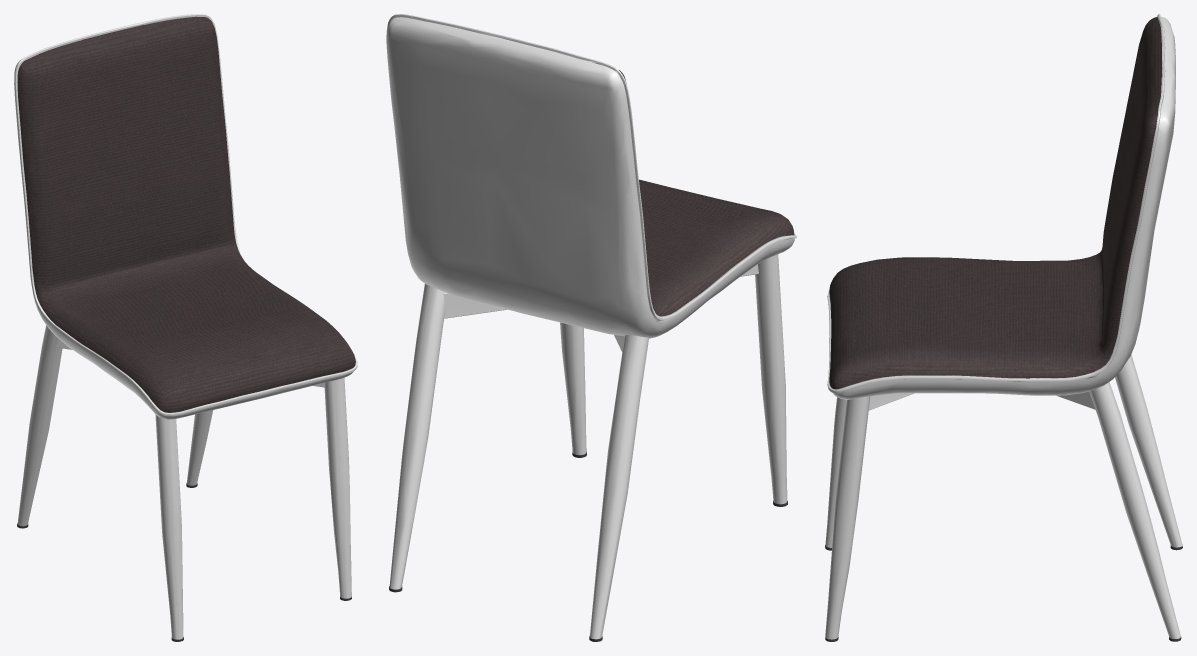
Rendered from raw_model.obj.
3 views of the same model, side by side, from view 1: azimuth 30°, elevation 25°; view 2: azimuth 150°, elevation 25°; view 3: azimuth 270°, elevation 25° (orthographic). The views are drawn at different scales.
Parts seen in each view (by area): view 1: solid_005, solid_001, solid_004; view 2: solid_004, solid_001, solid_005, solid_002; view 3: solid_005, solid_001, solid_004, solid_002.
Boxes of the visible parts, x1=… form: solid_005: x1=17, y1=16, x2=355, y2=412; solid_001: x1=17, y1=325, x2=351, y2=639; solid_004: x1=14, y1=14, x2=357, y2=419; solid_004: x1=386, y1=14, x2=796, y2=338; solid_001: x1=389, y1=254, x2=787, y2=639; solid_005: x1=619, y1=70, x2=794, y2=316; solid_002: x1=443, y1=264, x2=758, y2=351; solid_005: x1=829, y1=16, x2=1161, y2=389; solid_001: x1=825, y1=354, x2=1182, y2=639; solid_004: x1=827, y1=14, x2=1175, y2=399; solid_002: x1=868, y1=378, x2=1095, y2=410.
Bounding box in the file's own units: 0.3898 × 0.8765 × 0.531.
Materials: 1 (1 with a texture image).
